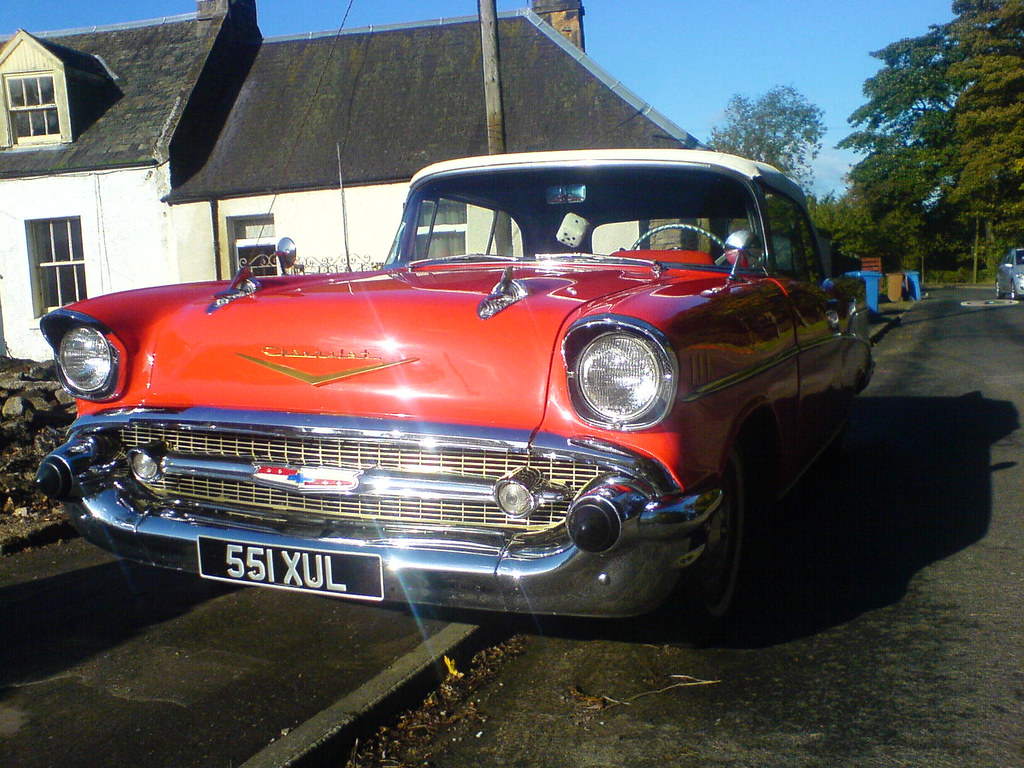car: (28, 92, 887, 615)
